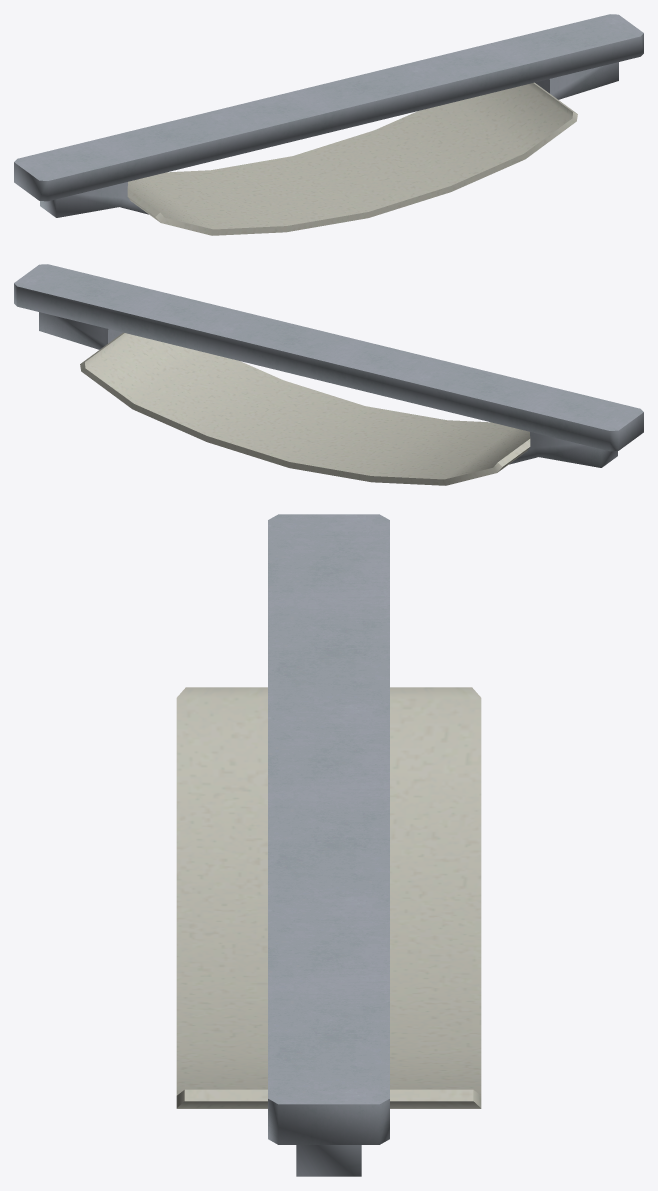
The model's file is p6_light_modern_sconce_off_LOD1.obj.
3 views of the same model, one above another, from view 1: azimuth 30°, elevation 25°; view 2: azimuth 150°, elevation 25°; view 3: azimuth 270°, elevation 25° (orthographic). The views are drawn at different scales.
Visible parts, largest first — view 1: metal_exterior_karma, hjk_interior_plastic_tile; view 2: metal_exterior_karma, hjk_interior_plastic_tile; view 3: metal_exterior_karma, hjk_interior_plastic_tile.
Boxes of the visible parts, x1=… form: metal_exterior_karma: x1=14, y1=14, x2=643, y2=217; hjk_interior_plastic_tile: x1=127, y1=82, x2=577, y2=235; metal_exterior_karma: x1=14, y1=264, x2=643, y2=467; hjk_interior_plastic_tile: x1=80, y1=332, x2=530, y2=485; metal_exterior_karma: x1=268, y1=514, x2=389, y2=1176; hjk_interior_plastic_tile: x1=176, y1=687, x2=481, y2=1108.
Bounding box in the file's own units: 140 × 22.37 × 30.6.
